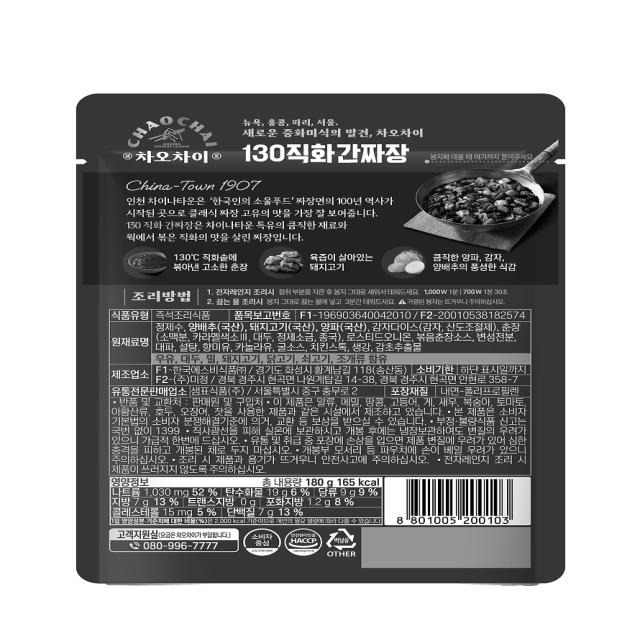Nutrition Label: (99, 470, 390, 532)
